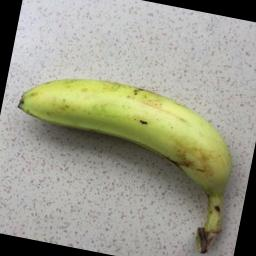Banana Ripe: (0, 46, 256, 220)
